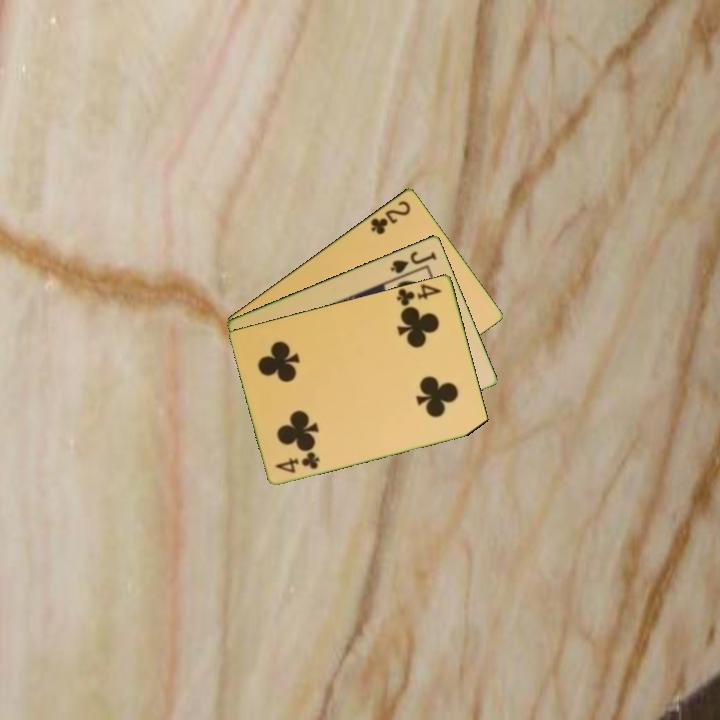2c: (367, 197, 414, 237)
4c: (393, 280, 444, 309), (272, 448, 323, 476)
Js: (387, 247, 440, 276)
